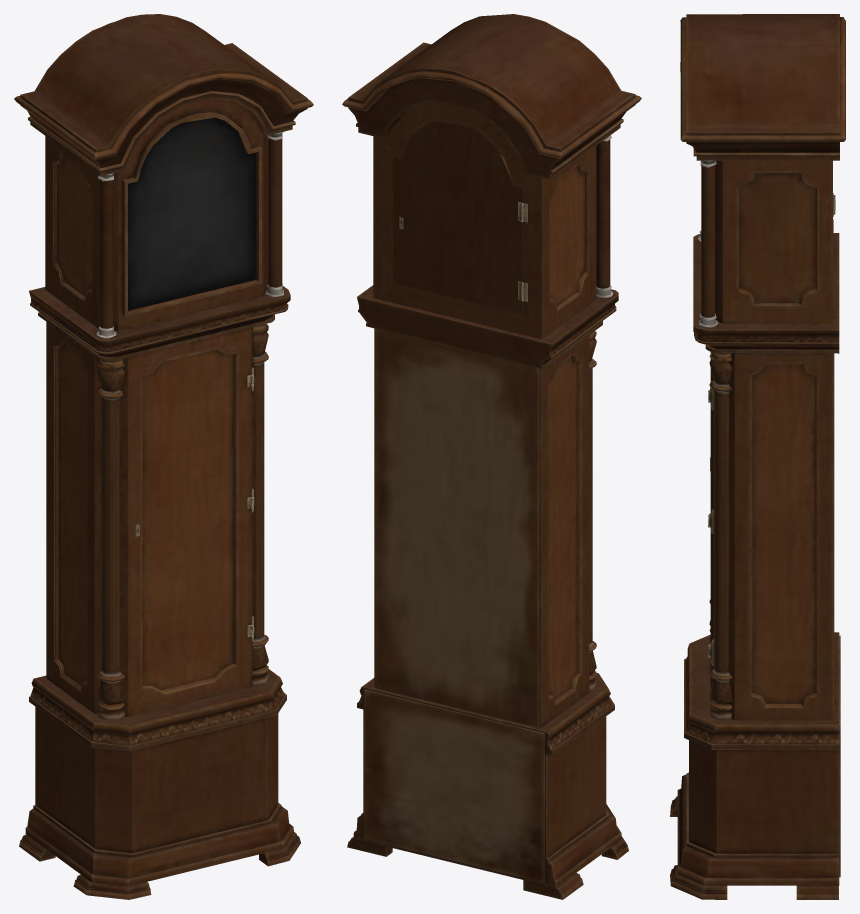
The model's file is vintage_grandfather_clock_01.glb.
The picture shows the model from 3 angles, left to right: view 1: azimuth 30°, elevation 25°; view 2: azimuth 150°, elevation 25°; view 3: azimuth 270°, elevation 25°; orthographic projection. The views are drawn at different scales.
Parts seen in each view (by area): view 1: vintage_grandfather_clock_01_Body; view 2: vintage_grandfather_clock_01_Body; view 3: vintage_grandfather_clock_01_Body.
Boxes of the visible parts, bbox=[...] form: vintage_grandfather_clock_01_Body: bbox=[14, 14, 313, 899]; vintage_grandfather_clock_01_Body: bbox=[342, 14, 641, 899]; vintage_grandfather_clock_01_Body: bbox=[670, 14, 845, 899].
Bounding box in the file's own units: 0.6255 × 2.19 × 0.4265.
2 materials, 2 textured.
